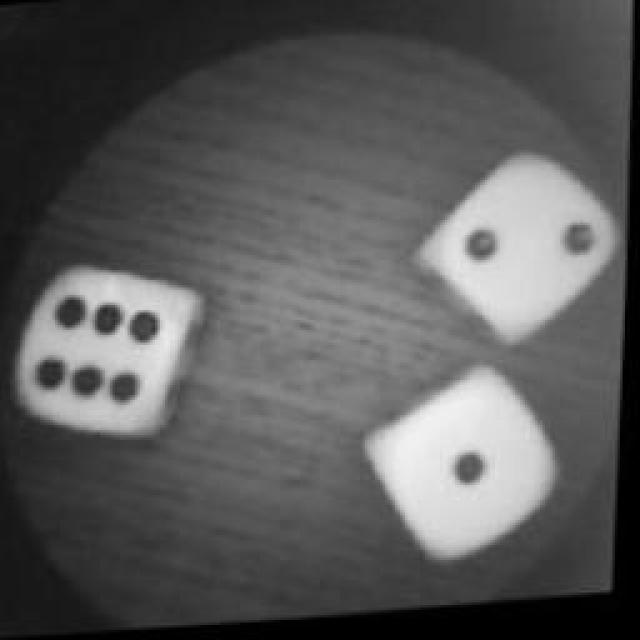dice_1: (372, 365, 570, 575)
dice_2: (420, 146, 632, 354)
dice_6: (10, 254, 202, 446)
